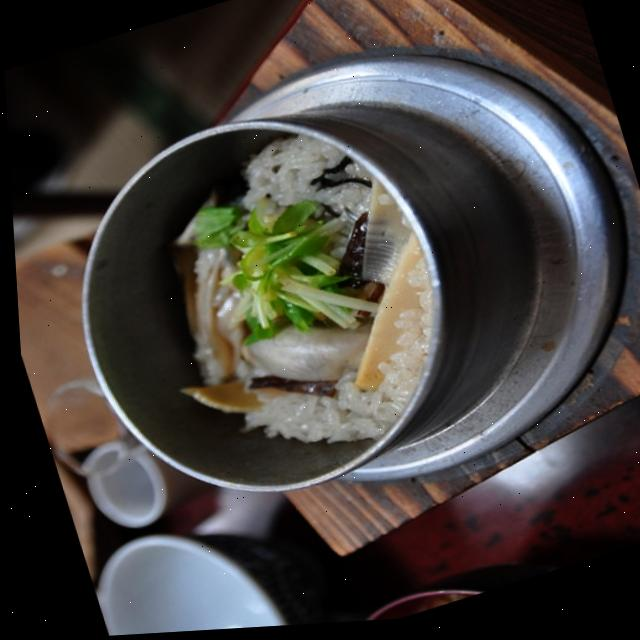熟制海鲜: (280, 24, 563, 552)
